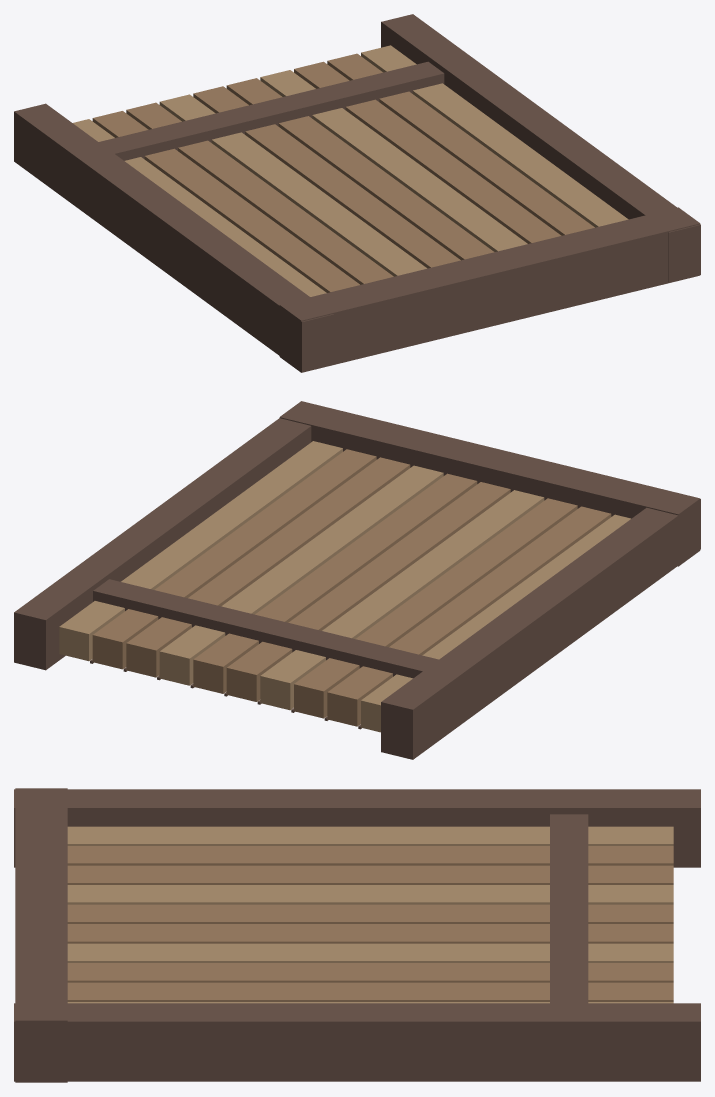
File: tier01_rustic_plank_wall.glb
The picture shows the model from 3 angles, top to bottom: view 1: azimuth 30°, elevation 25°; view 2: azimuth 150°, elevation 25°; view 3: azimuth 270°, elevation 25°; orthographic projection. The views are drawn at different scales.
Visible parts, largest first — view 1: tier01_rustic_plank_wall_025, tier01_rustic_plank_wall_000, tier01_rustic_plank_wall_002, tier01_rustic_plank_wall_024, tier01_rustic_plank_wall_010, tier01_rustic_plank_wall_014, tier01_rustic_plank_wall_020, tier01_rustic_plank_wall_008, tier01_rustic_plank_wall_022, tier01_rustic_plank_wall_006, tier01_rustic_plank_wall_012, tier01_rustic_plank_wall_016 (+2 smaller); view 2: tier01_rustic_plank_wall_000, tier01_rustic_plank_wall_025, tier01_rustic_plank_wall_002, tier01_rustic_plank_wall_020, tier01_rustic_plank_wall_012, tier01_rustic_plank_wall_016, tier01_rustic_plank_wall_014, tier01_rustic_plank_wall_010, tier01_rustic_plank_wall_006, tier01_rustic_plank_wall_008, tier01_rustic_plank_wall_018, tier01_rustic_plank_wall_022 (+2 smaller); view 3: tier01_rustic_plank_wall_002, tier01_rustic_plank_wall_000, tier01_rustic_plank_wall_025, tier01_rustic_plank_wall_006, tier01_rustic_plank_wall_010, tier01_rustic_plank_wall_014, tier01_rustic_plank_wall_018, tier01_rustic_plank_wall_004, tier01_rustic_plank_wall_008, tier01_rustic_plank_wall_012, tier01_rustic_plank_wall_016, tier01_rustic_plank_wall_020 (+2 smaller).
Part boxes in pixels (x1=…): tier01_rustic_plank_wall_025: x1=279, y1=207, x2=700, y2=372; tier01_rustic_plank_wall_000: x1=14, y1=103, x2=333, y2=372; tier01_rustic_plank_wall_002: x1=381, y1=14, x2=700, y2=282; tier01_rustic_plank_wall_024: x1=99, y1=61, x2=444, y2=160; tier01_rustic_plank_wall_010: x1=159, y1=94, x2=427, y2=276; tier01_rustic_plank_wall_014: x1=226, y1=78, x2=494, y2=260; tier01_rustic_plank_wall_020: x1=327, y1=53, x2=594, y2=235; tier01_rustic_plank_wall_008: x1=126, y1=102, x2=393, y2=284; tier01_rustic_plank_wall_022: x1=361, y1=45, x2=628, y2=227; tier01_rustic_plank_wall_006: x1=92, y1=111, x2=359, y2=292; tier01_rustic_plank_wall_012: x1=193, y1=86, x2=460, y2=268; tier01_rustic_plank_wall_016: x1=260, y1=70, x2=527, y2=251; tier01_rustic_plank_wall_000: x1=381, y1=499, x2=700, y2=759; tier01_rustic_plank_wall_025: x1=279, y1=401, x2=700, y2=566; tier01_rustic_plank_wall_002: x1=14, y1=418, x2=311, y2=670; tier01_rustic_plank_wall_020: x1=92, y1=449, x2=376, y2=669; tier01_rustic_plank_wall_012: x1=226, y1=482, x2=510, y2=701; tier01_rustic_plank_wall_016: x1=159, y1=465, x2=443, y2=685; tier01_rustic_plank_wall_014: x1=193, y1=473, x2=477, y2=693; tier01_rustic_plank_wall_010: x1=260, y1=490, x2=544, y2=710; tier01_rustic_plank_wall_006: x1=327, y1=506, x2=611, y2=726; tier01_rustic_plank_wall_008: x1=294, y1=498, x2=577, y2=718; tier01_rustic_plank_wall_018: x1=126, y1=457, x2=410, y2=677; tier01_rustic_plank_wall_022: x1=59, y1=441, x2=342, y2=661; tier01_rustic_plank_wall_002: x1=14, y1=1003, x2=700, y2=1081; tier01_rustic_plank_wall_000: x1=14, y1=789, x2=700, y2=867; tier01_rustic_plank_wall_025: x1=15, y1=788, x2=67, y2=1082; tier01_rustic_plank_wall_006: x1=67, y1=846, x2=673, y2=865; tier01_rustic_plank_wall_010: x1=67, y1=885, x2=673, y2=904; tier01_rustic_plank_wall_014: x1=67, y1=924, x2=673, y2=943; tier01_rustic_plank_wall_018: x1=67, y1=963, x2=673, y2=982; tier01_rustic_plank_wall_004: x1=67, y1=826, x2=673, y2=845; tier01_rustic_plank_wall_008: x1=67, y1=865, x2=673, y2=884; tier01_rustic_plank_wall_012: x1=67, y1=904, x2=673, y2=923; tier01_rustic_plank_wall_016: x1=67, y1=943, x2=673, y2=962; tier01_rustic_plank_wall_020: x1=67, y1=982, x2=673, y2=1001.
Bounding box in the file's own units: 2 × 0.267 × 2.5.
